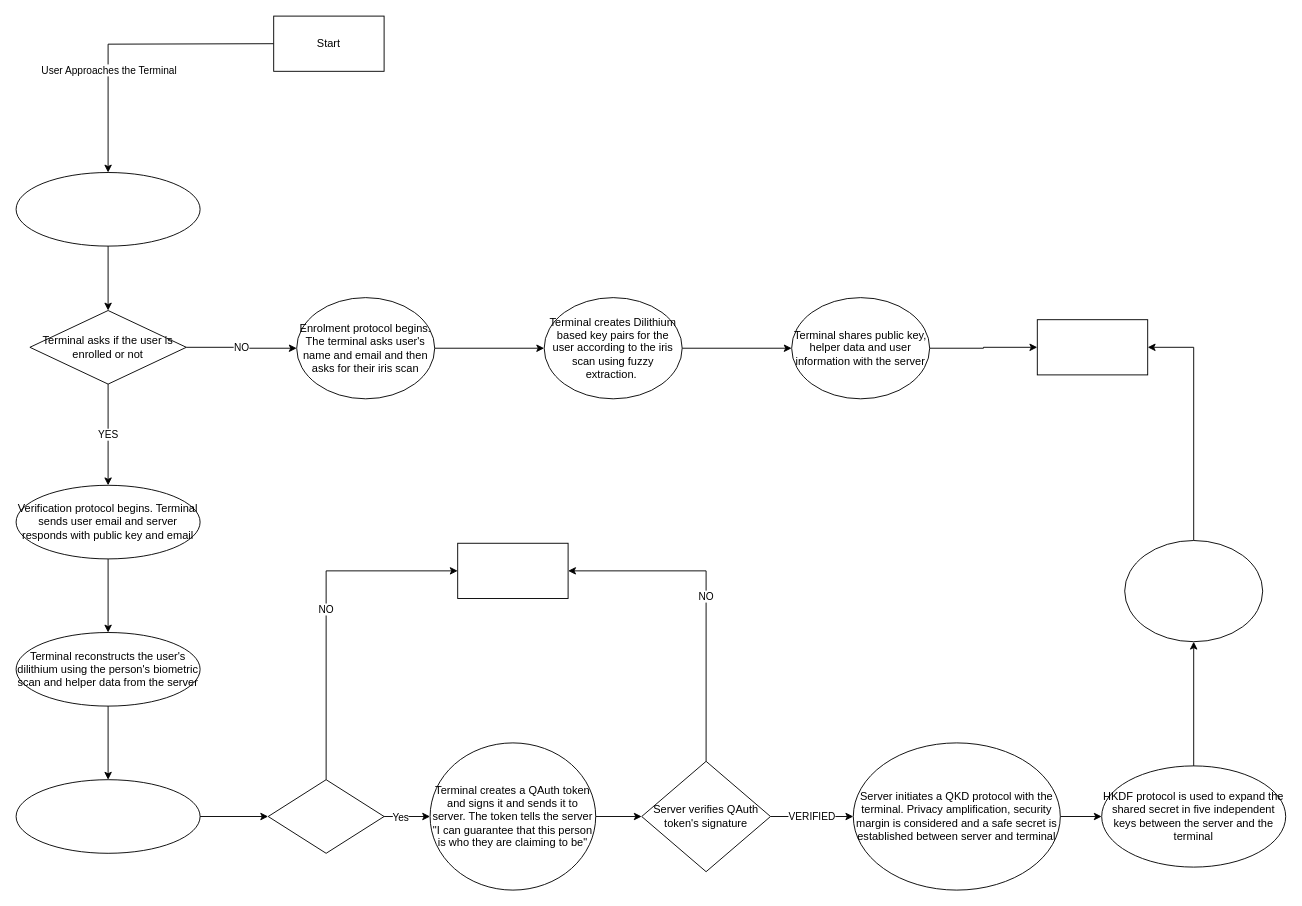
Some shapes in this 1302 by 906 pixel diagram are drawn without their labels. The centre of each missing label's shape, as x and y in pixels:
Dilithium challenge success: pixel 325 816
Session Abort: pixel 512 570
Session Completed: pixel 1092 347
Terminal and Server mutually authenticate each other using Dilithium Key Pair: pixel 107 209
The derived keys are used for AES channel to create secure communication: pixel 1193 591
Using the reconstructed key, the terminal signs a challenge to verify the user: pixel 107 816
